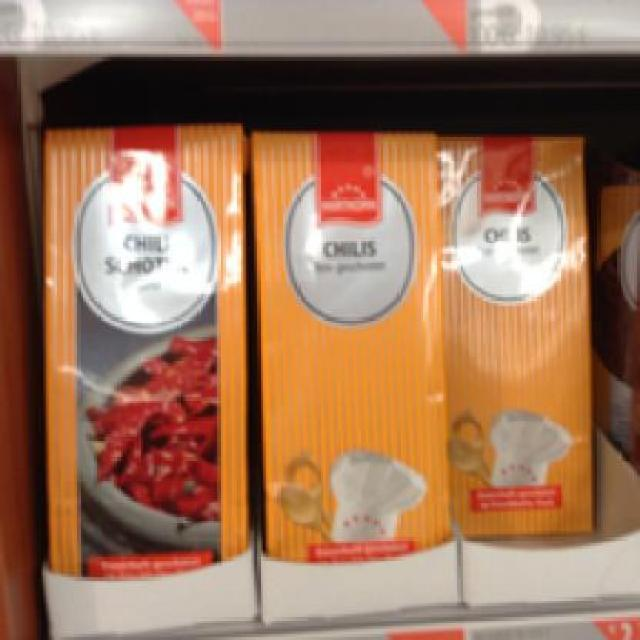Spices: (37, 120, 246, 577), (246, 120, 443, 560), (437, 132, 592, 538)
